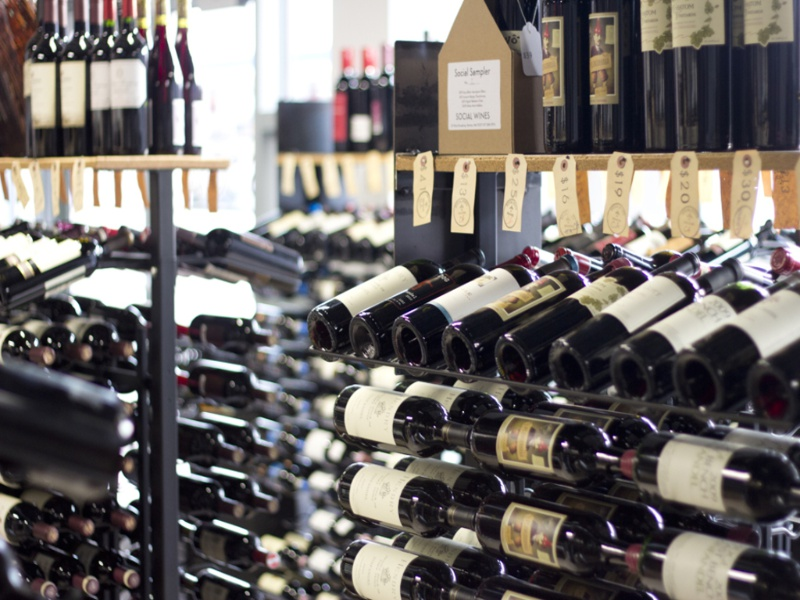wine: (303, 234, 797, 600), (2, 211, 310, 600), (297, 7, 800, 179), (12, 3, 248, 173)
